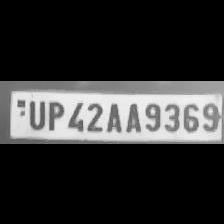2: (84, 97, 104, 130)
3: (162, 100, 180, 132)
4: (64, 97, 84, 130)
6: (180, 100, 200, 132)
9: (141, 99, 161, 131), (200, 100, 220, 132)
A: (122, 98, 142, 132), (103, 97, 123, 130)
P: (44, 97, 64, 130)
U: (23, 96, 44, 128)
